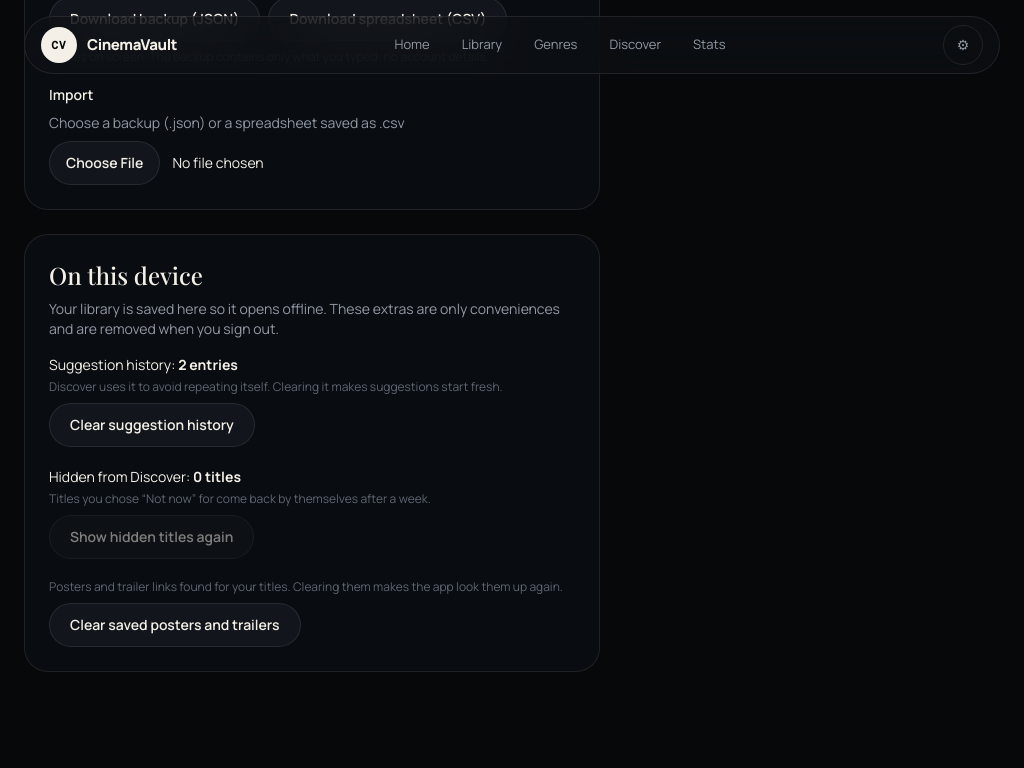
Test: on this device › counts the suggestion history and clears it without touching anything else
This screenshot has width=1024, height=768.
(page scrolled)
Expected: the text "2 entries" is shown, [178,355,238,374]
Click the button "Clear suggestion history" at {"x": 152, "y": 425}, box [49,403,255,447]
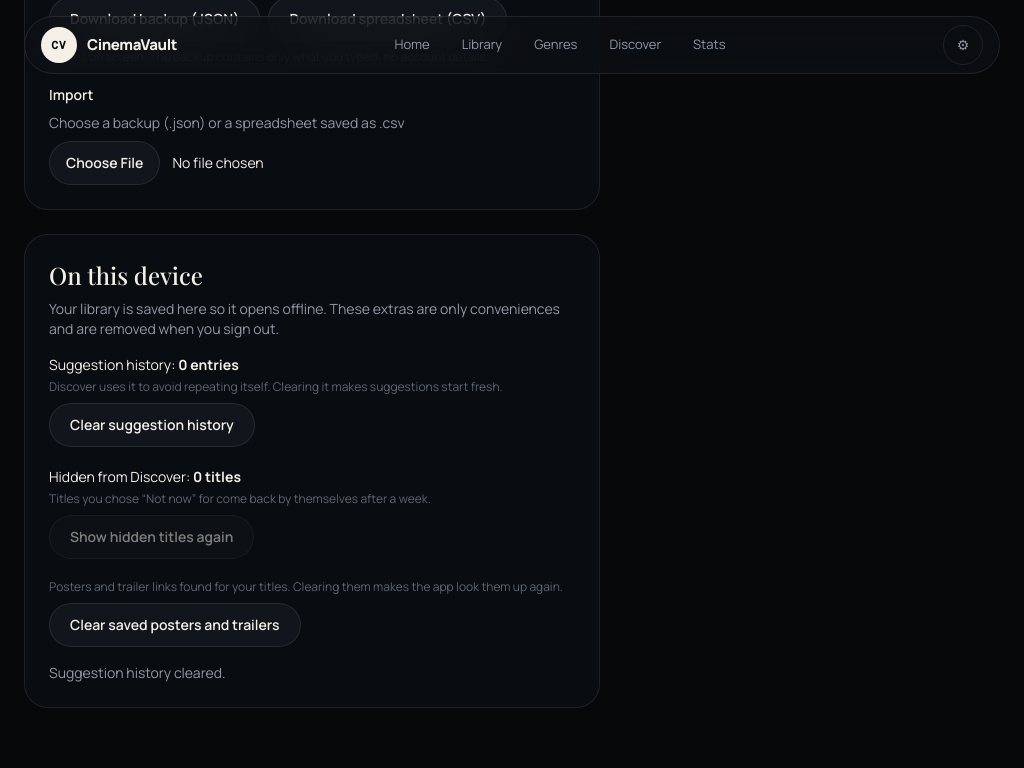
Expected: the text "Suggestion history cleared." is shown, [49,663,226,682]
Expected: the text "0 entries" is shown, [178,355,239,374]
